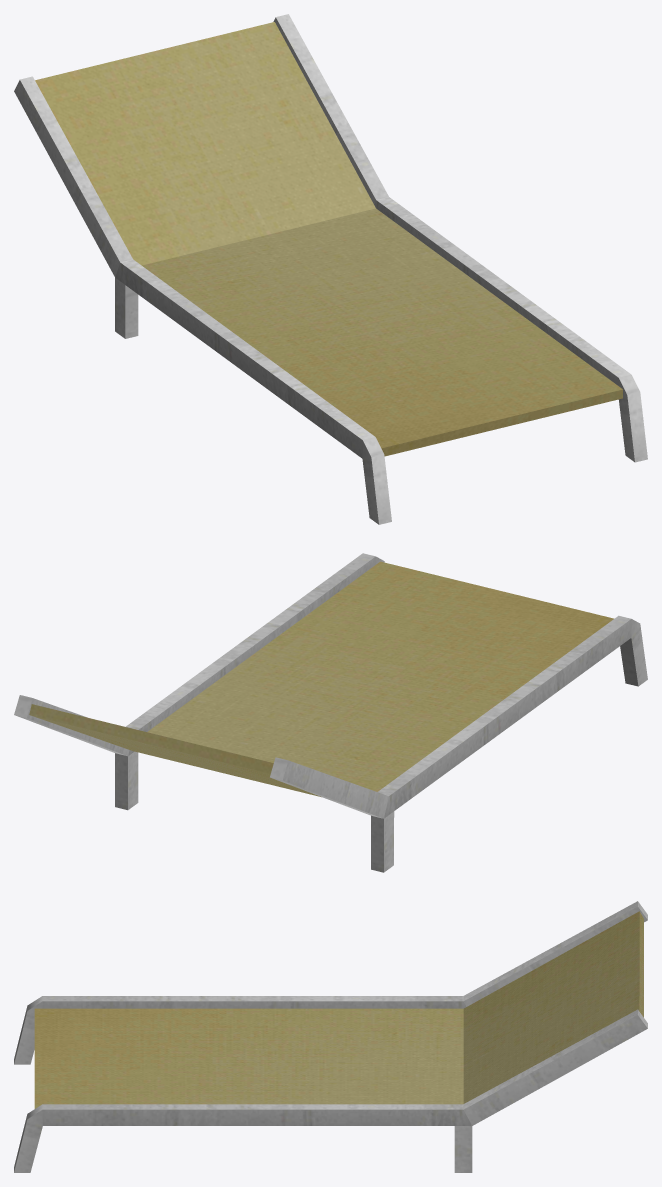
File: bar_prop_break_deckchair.fbx
The picture shows the model from 3 angles, top to bottom: view 1: azimuth 30°, elevation 25°; view 2: azimuth 150°, elevation 25°; view 3: azimuth 270°, elevation 25°; orthographic projection. The views are drawn at different scales.
Parts seen in each view (by area): view 1: tumbona_bar_atlas_area09_DF_tga_LOD1; view 2: tumbona_bar_atlas_area09_DF_tga_LOD1; view 3: tumbona_bar_atlas_area09_DF_tga_LOD1.
Boxes of the visible parts, bbox=[...] form: tumbona_bar_atlas_area09_DF_tga_LOD1: bbox=[14, 14, 647, 524]; tumbona_bar_atlas_area09_DF_tga_LOD1: bbox=[14, 553, 647, 872]; tumbona_bar_atlas_area09_DF_tga_LOD1: bbox=[14, 901, 647, 1172].
Bounding box in the file's own units: 1.59 × 3.73 × 1.03.
